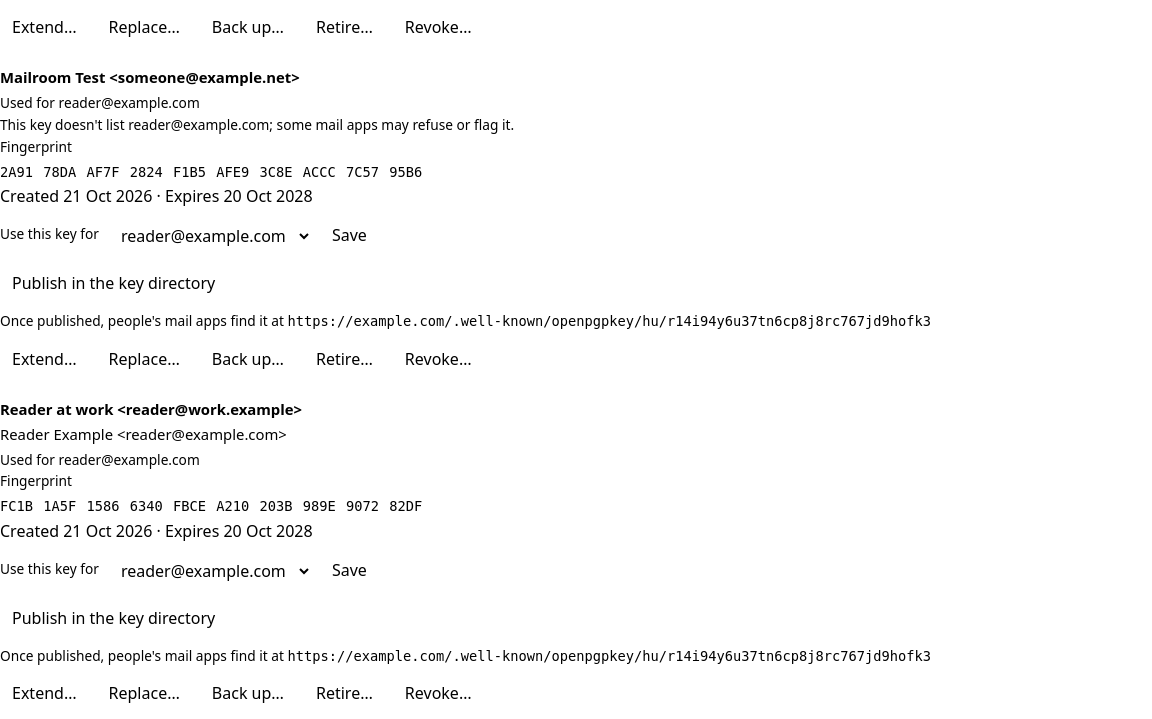
it: Replace (#817) › an unpublished key's replacement is not published, and the dialog says so
The width and height of the screenshot is (1152, 719).
(page scrolled)
Step 1. Click the button "Replace…" below "Mailroom Test <someone@example.net>" → (144, 359), box [96,340,192,378]
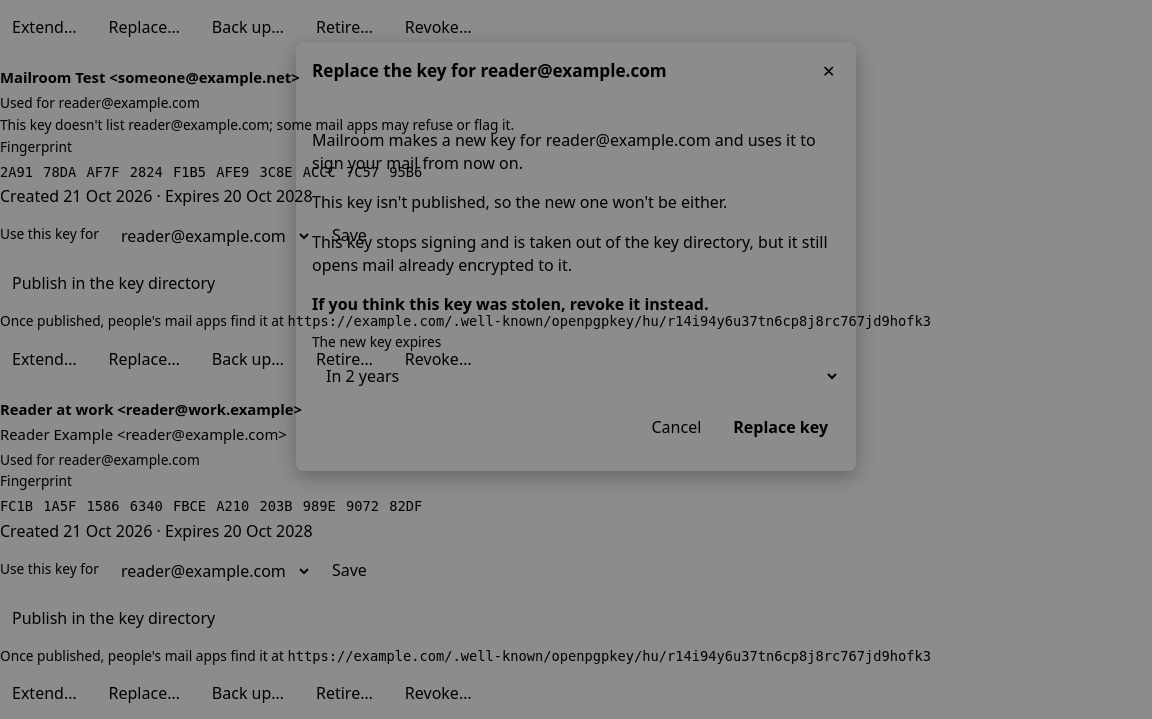
Now the dialog shows "This key isn't published, so the new one won't be either.", box [312,191,727,213]
